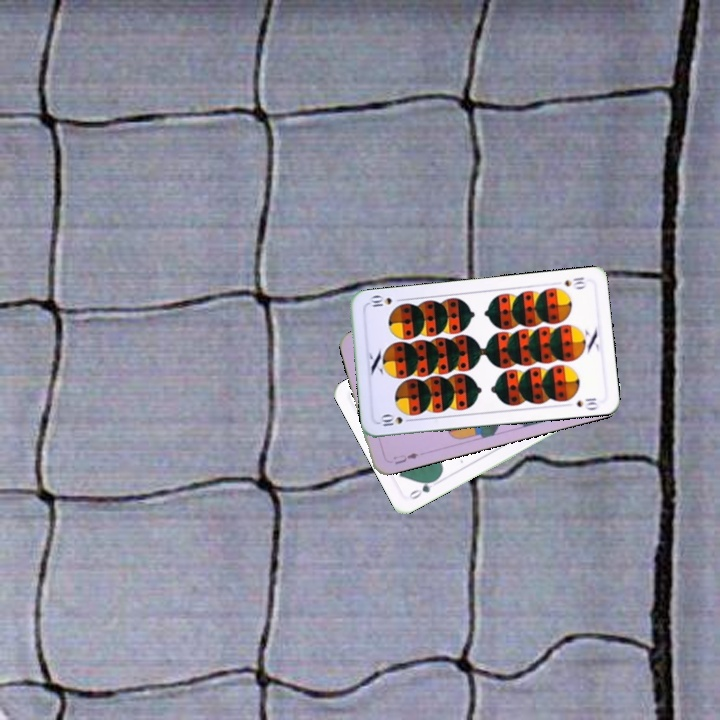EU: (389, 449, 421, 467)
GO: (405, 474, 441, 502)
S10: (376, 411, 416, 429), (560, 273, 588, 291)
